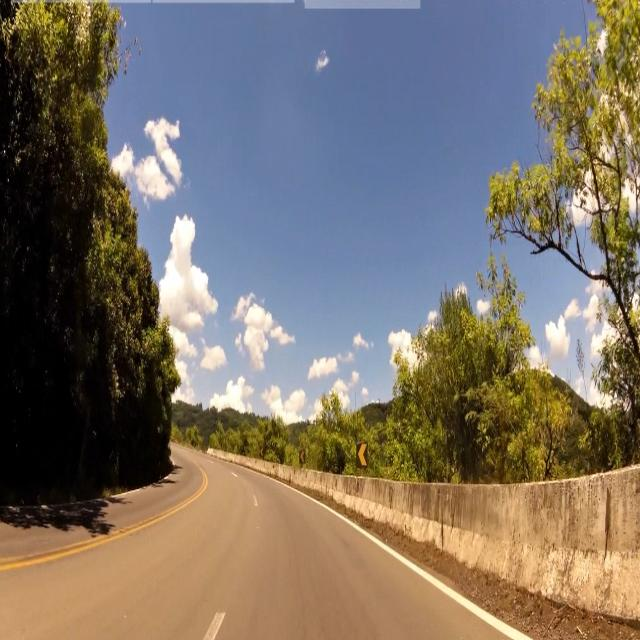Del: (356, 444, 369, 468), (300, 449, 307, 465)
